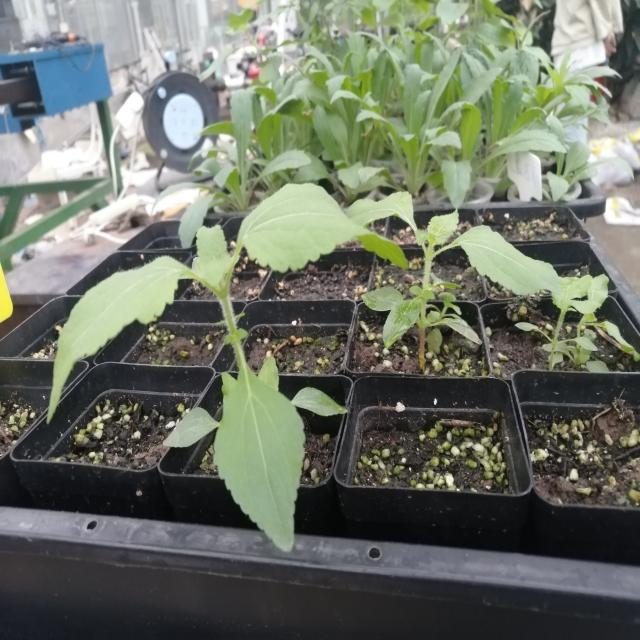billygoat_weed: (50, 155, 338, 524), (322, 171, 543, 329)
